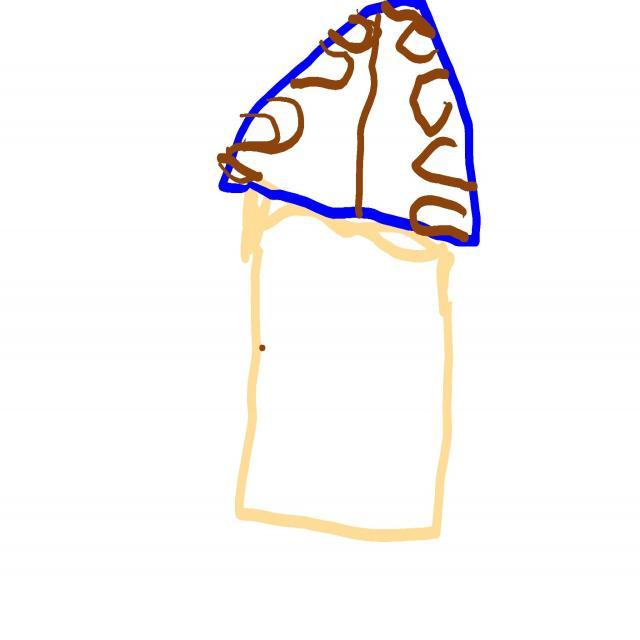house: (219, 0, 481, 541)
roof: (218, 0, 481, 246)
wall: (236, 191, 455, 542)
